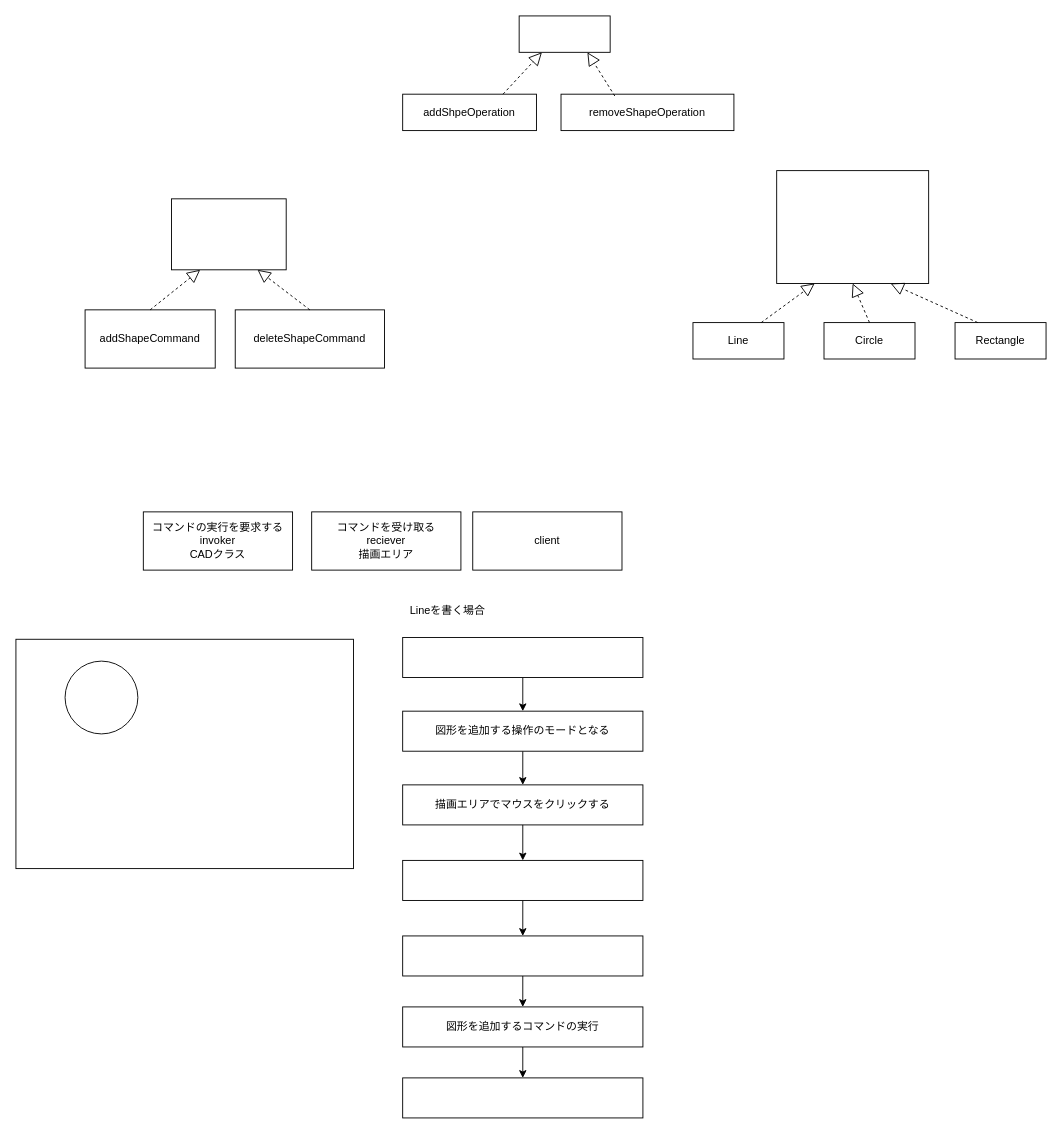
This 1062x1134 diagram has some shape labels left out. The centre of each missing label's shape, as x and y in pixels:
"ICommand +execute" belongs at point 228,234.
"Operation" belongs at point 564,33.
"Shape 位置 色 サイズ +描画" belongs at point 852,226.
"図形を追加するコマンドの実行を要求する" belongs at point 522,955.
"描画エリアにてマウスをもう一度クリックする" belongs at point 522,879.
"描画エリアに図形が作成される" belongs at point 522,1097.
"線を追加するモードボタンをクリックする" belongs at point 522,657.
